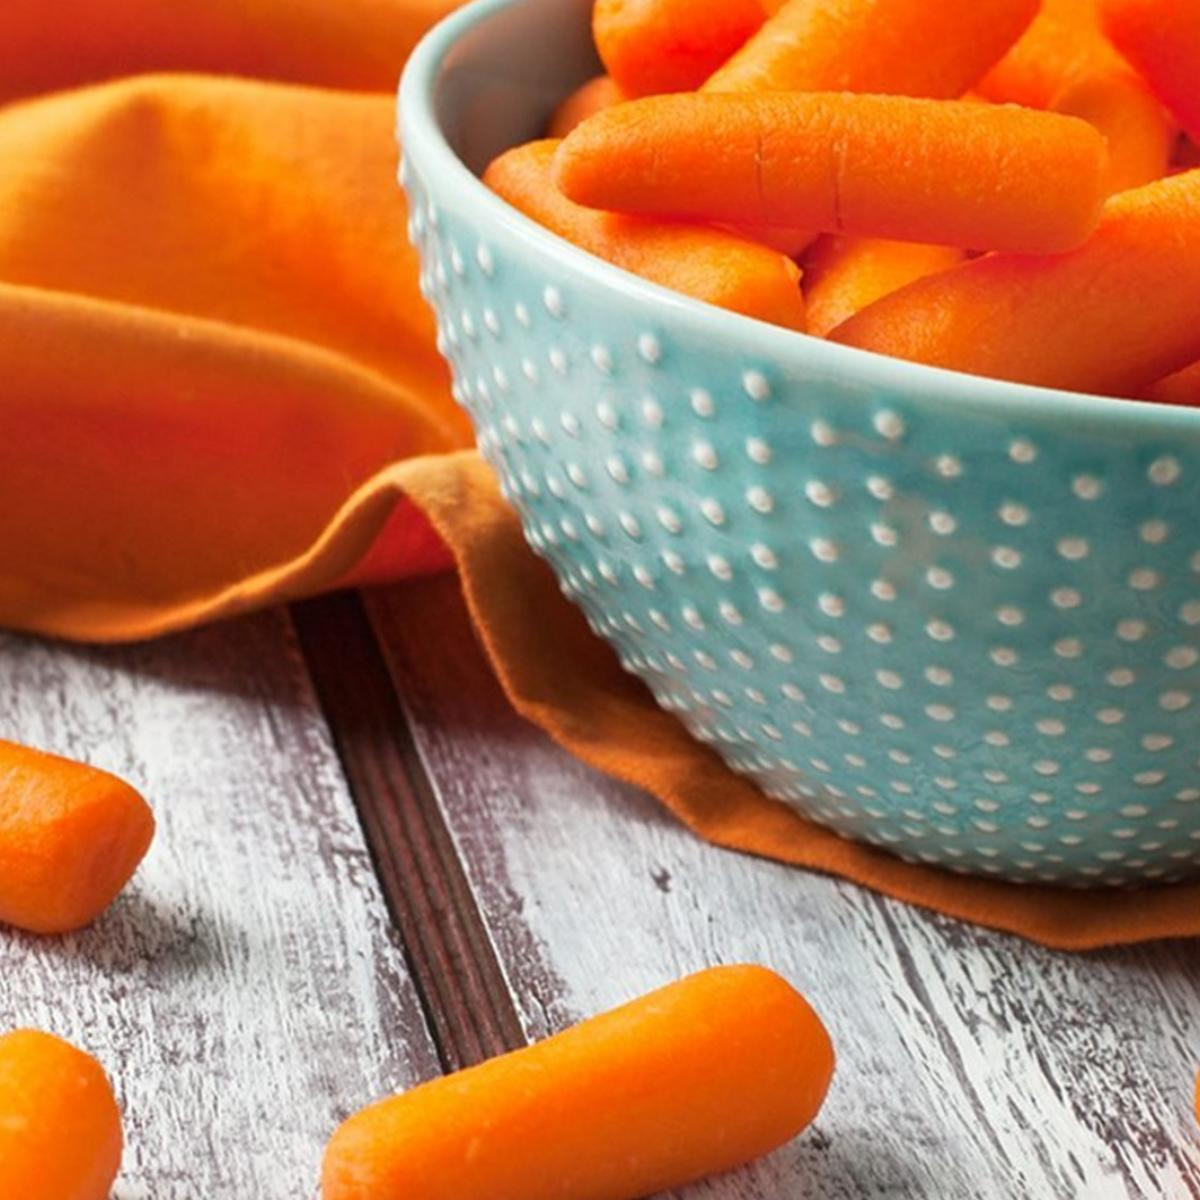carrot: (543, 18, 1200, 302), (299, 1026, 844, 1200), (3, 1016, 202, 1200), (0, 716, 149, 942)
